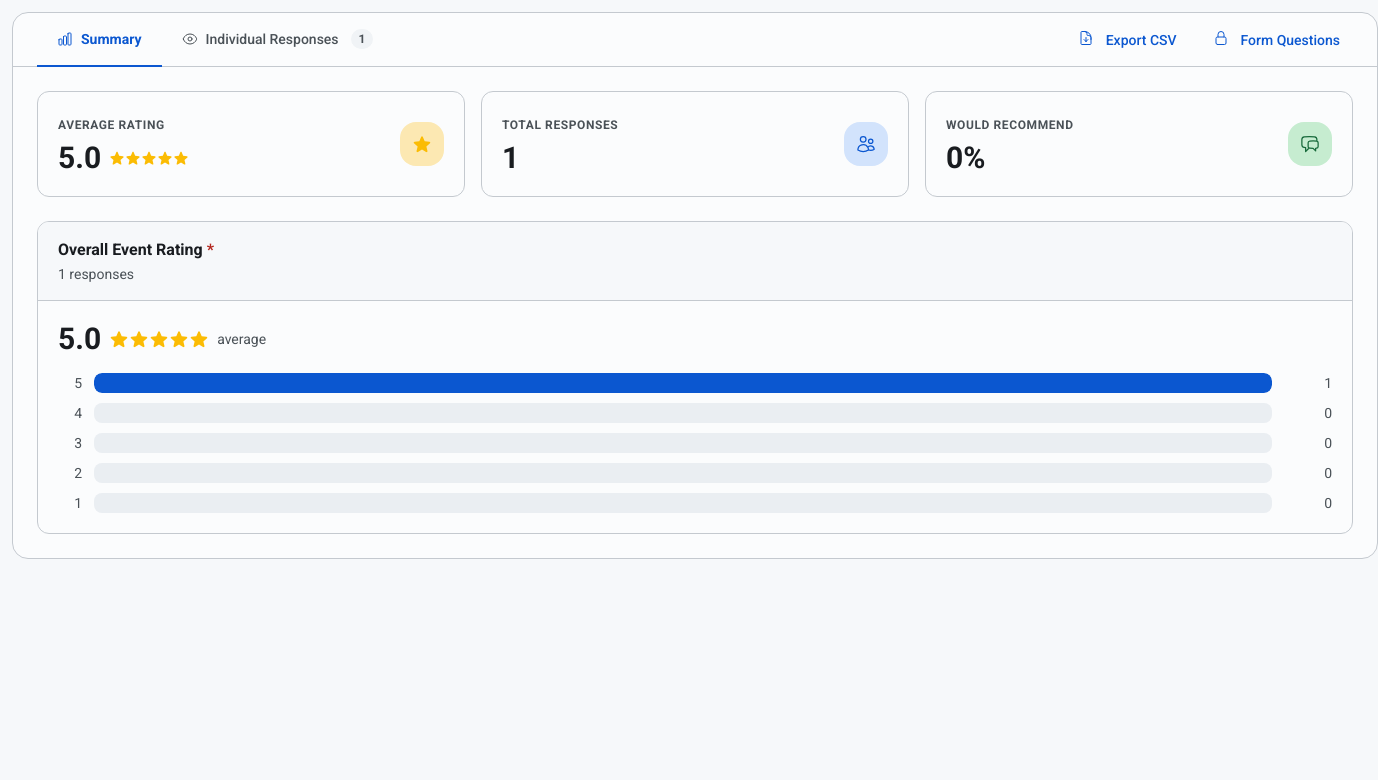
FeedbackTab Form Questions & Locking › defaults to Summary tab and locks Form Questions when responses already exist
Expected: the text "1 responses" is shown, [58, 266, 134, 282]
Note: Switch to Form Questions tab
Click the button "Form Questions": {"x": 1276, "y": 40} [1200, 16, 1353, 64]
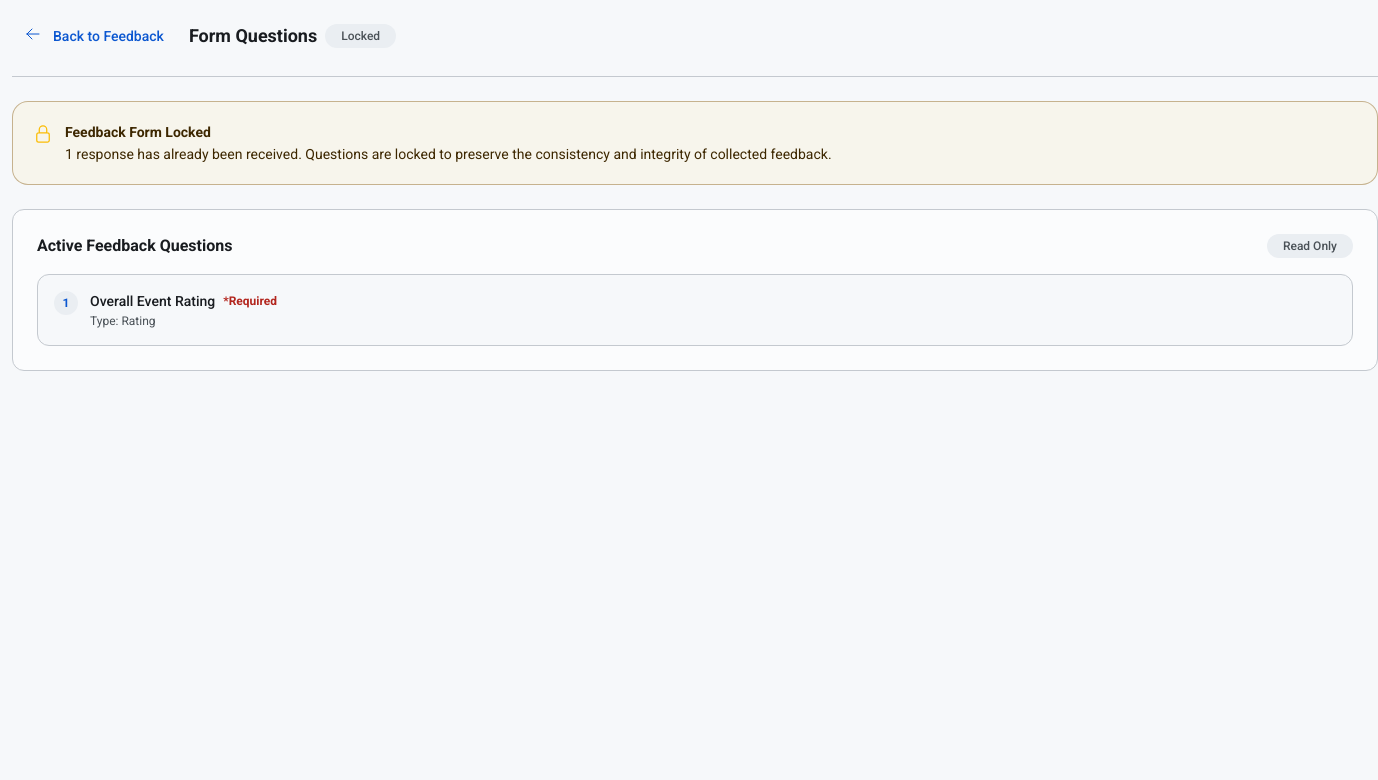
Expected: the text "Overall Event Rating" is shown, [90, 291, 215, 311]
Result: the heading "Feedback Form Locked" is shown at [65, 124, 211, 140]
Result: the text "Read Only" is shown at [1267, 234, 1353, 258]
